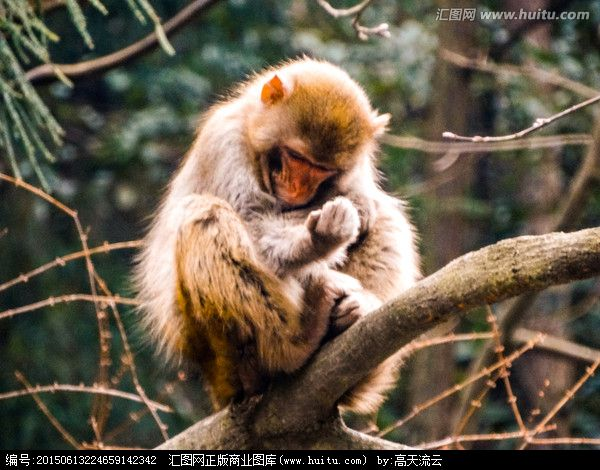monkey: (114, 45, 433, 426)
